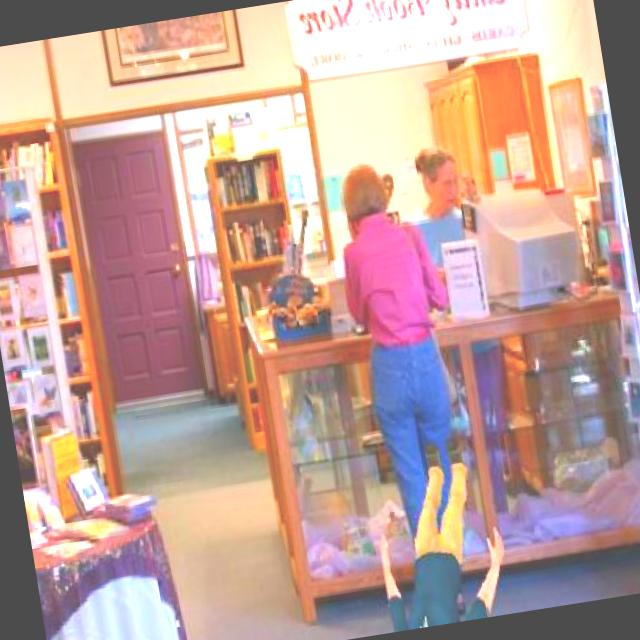Person: (354, 422, 518, 632)
